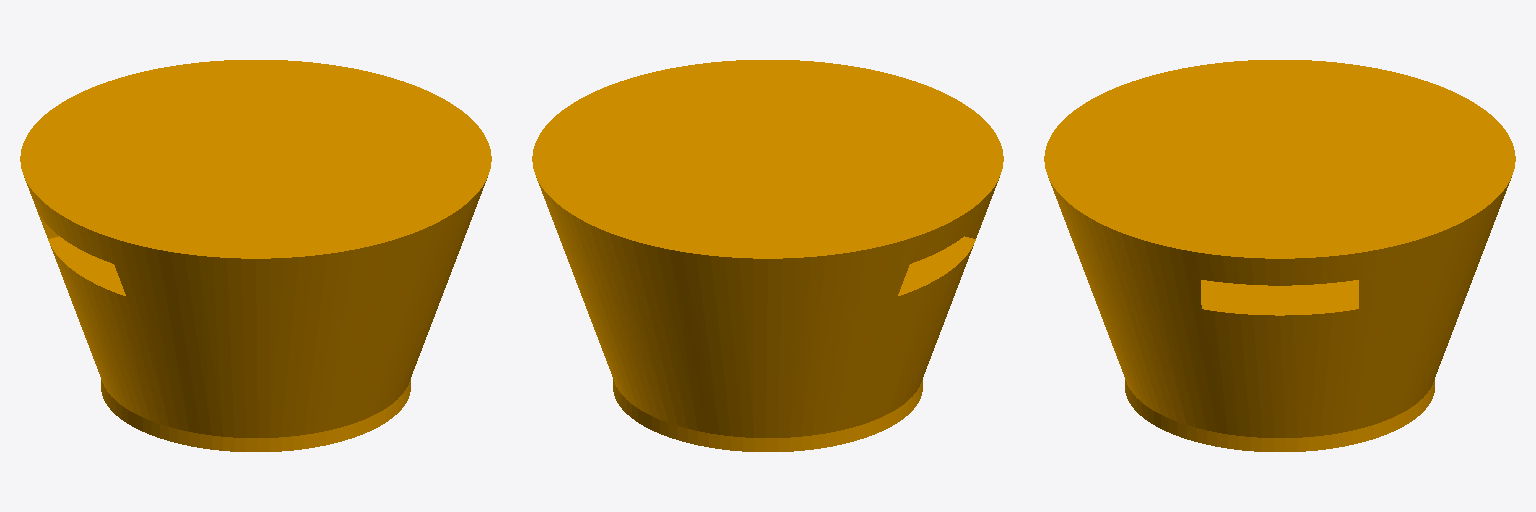
The robot description file, URDF, robot "my_robot":
<robot name="my_robot"><link name="base_link"><visual><geometry><mesh filename="../Stl/Stl/Base v2.stl" /></geometry></visual></link></robot>

--- Facts derived from the render (not from the file) ---
The picture shows the robot from 3 angles, left to right: view 1: azimuth 30°, elevation 25°; view 2: azimuth 150°, elevation 25°; view 3: azimuth 270°, elevation 25°; orthographic projection.
Model my_robot with 1 links and 0 joints (none), rooted at base_link, posed every joint at zero.
Links seen in each view (by area): view 1: base_link; view 2: base_link; view 3: base_link.
Boxes of the visible links, box(x1,y1,x2,y2) form: base_link: box(20, 60, 491, 451); base_link: box(532, 60, 1003, 451); base_link: box(1044, 60, 1515, 451).
Size in the robot's own frame: 120 by 120 by 64 metres.
Meshes: 1 distinct files referenced, 1 mesh visuals loaded (1 binary STL).